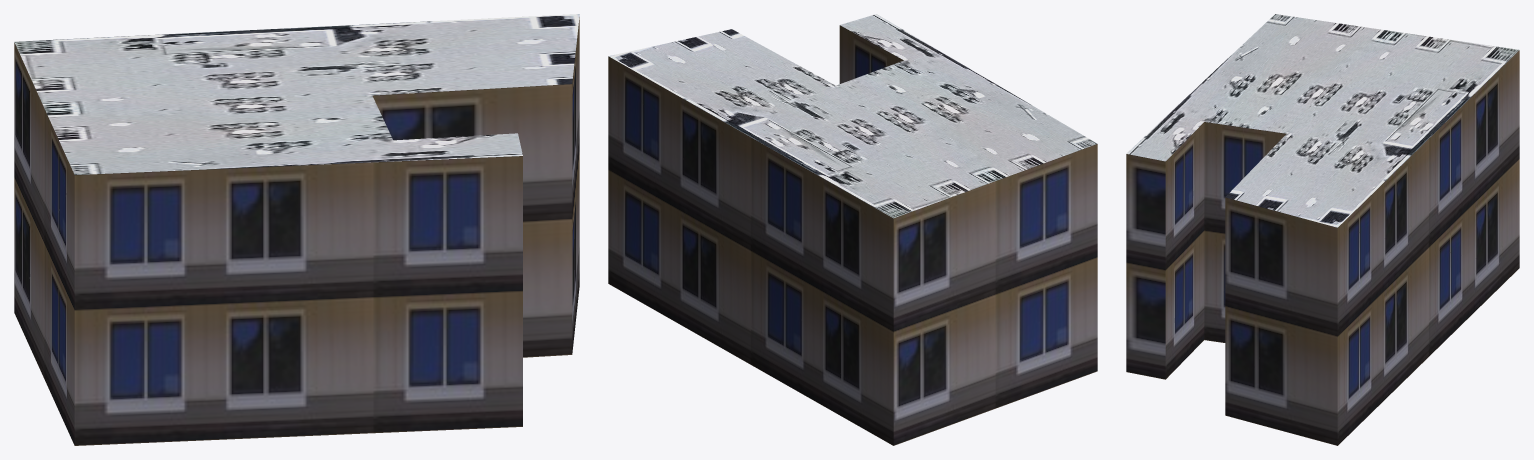
The model's file is ResTex__4200.fbx.
3 renders of one model, left to right at view 1: azimuth 30°, elevation 25°; view 2: azimuth 150°, elevation 25°; view 3: azimuth 270°, elevation 25°, orthographic. The views are drawn at different scales.
Parts seen in each view (by area): view 1: CityEngineMaterial_5_m, CityEngineMaterial_8_m; view 2: CityEngineMaterial_5_m, CityEngineMaterial_8_m; view 3: CityEngineMaterial_5_m, CityEngineMaterial_8_m.
Boxes of the visible parts, bbox=[...] form: CityEngineMaterial_5_m: bbox=[14, 17, 579, 445]; CityEngineMaterial_8_m: bbox=[14, 14, 579, 174]; CityEngineMaterial_5_m: bbox=[608, 25, 1097, 445]; CityEngineMaterial_8_m: bbox=[608, 14, 1097, 218]; CityEngineMaterial_5_m: bbox=[1126, 50, 1519, 445]; CityEngineMaterial_8_m: bbox=[1126, 14, 1519, 227].
Size of the model in its own units: 12.61 by 6 by 9.81.
Materials: 2 (2 with a texture image).
